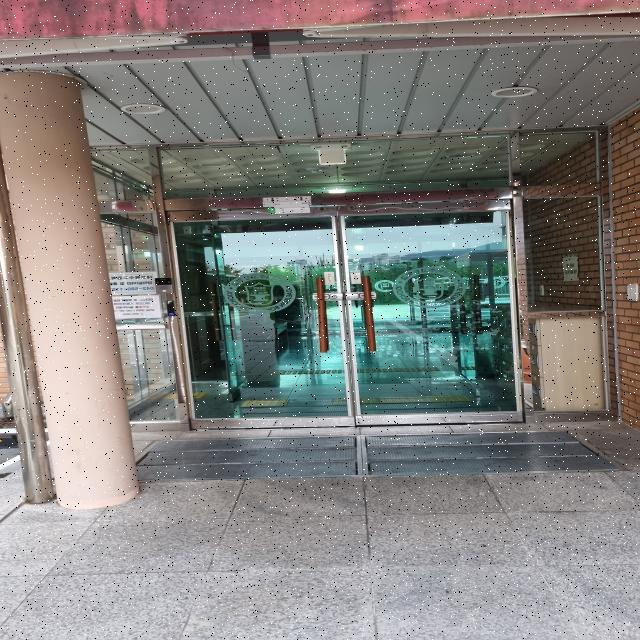logo: (222, 272, 297, 316), (392, 266, 468, 308), (373, 280, 396, 293), (327, 280, 344, 292), (140, 312, 144, 316)
